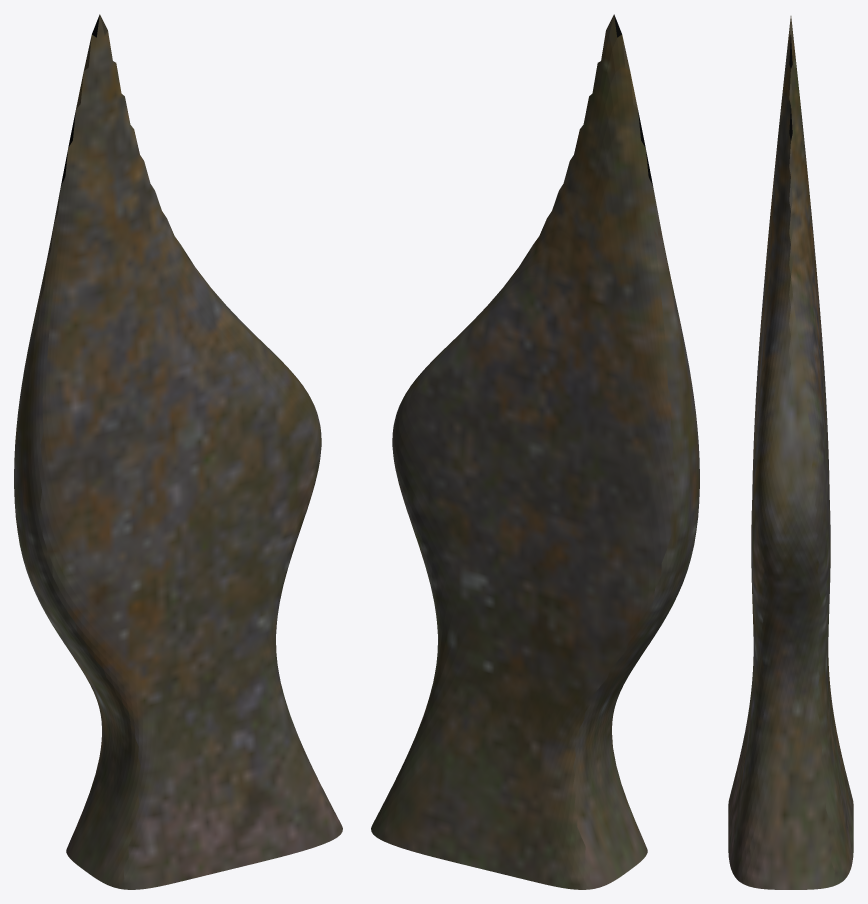
Rendered from PedraPontiaguda.fbx.
3 renders of one model, left to right at view 1: azimuth 30°, elevation 25°; view 2: azimuth 150°, elevation 25°; view 3: azimuth 270°, elevation 25°, orthographic. The views are drawn at different scales.
Parts seen in each view (by area): view 1: PedraPontiaguda_LOD0; view 2: PedraPontiaguda_LOD0; view 3: PedraPontiaguda_LOD0.
Part boxes in pixels (x1,y1,x2,y2): PedraPontiaguda_LOD0: [14, 14, 342, 889]; PedraPontiaguda_LOD0: [371, 14, 699, 889]; PedraPontiaguda_LOD0: [728, 16, 853, 889].
Size of what is drawn, in the model's own units: 305 by 814 by 119.
